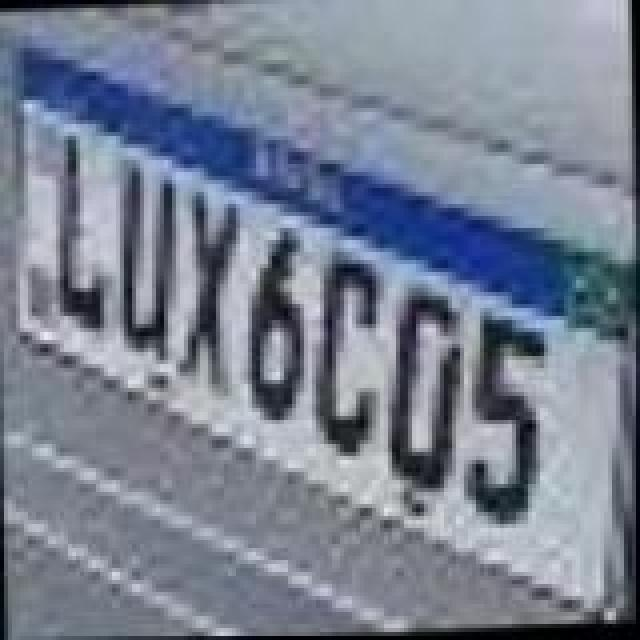5: (454, 310, 554, 526)
6: (240, 222, 316, 426)
C: (306, 256, 386, 464)
D: (380, 288, 468, 500)
L: (48, 136, 112, 336)
U: (112, 166, 188, 362)
X: (166, 188, 246, 388)
